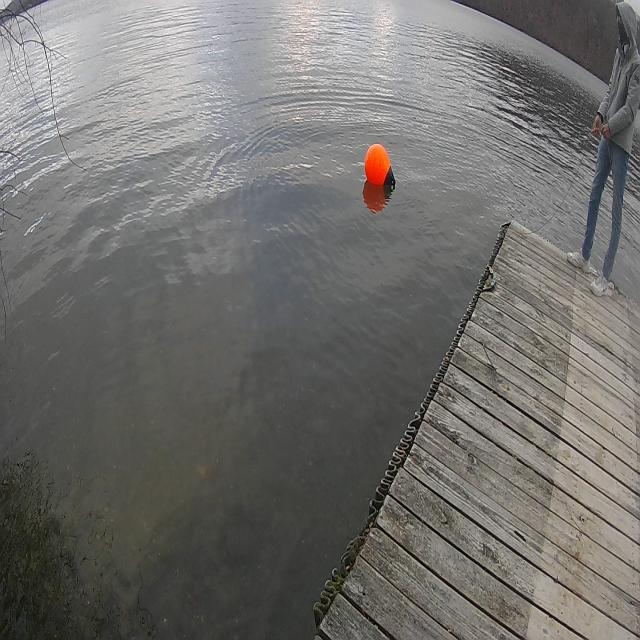Buoy: (358, 134, 399, 199)
